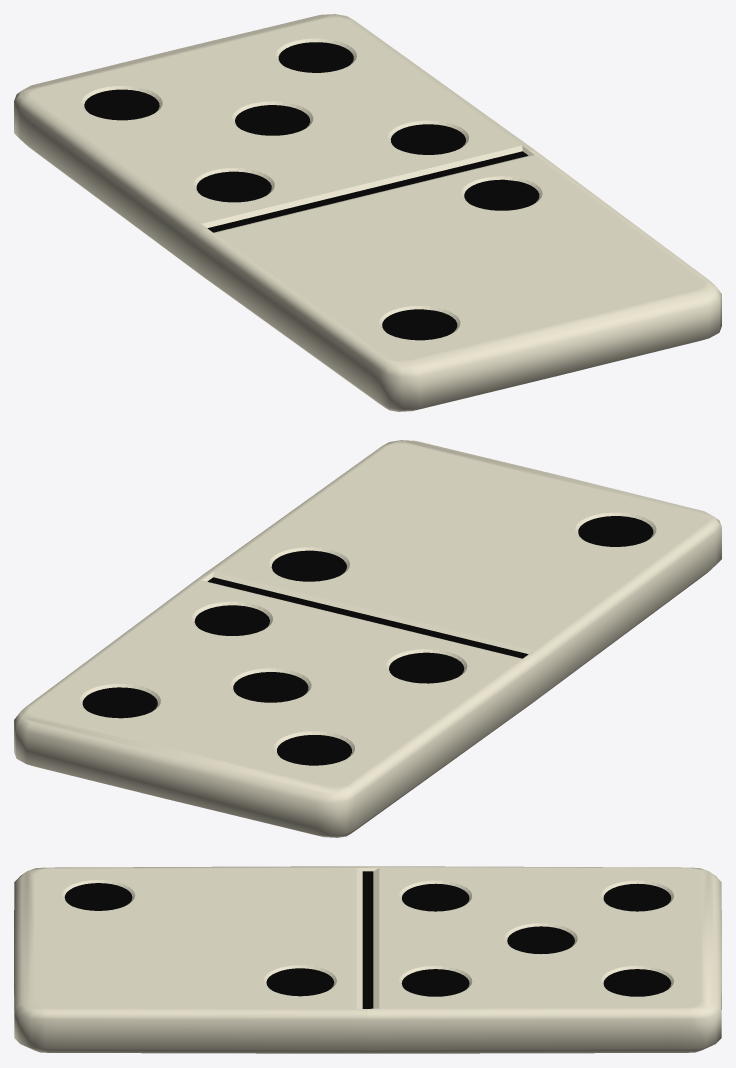
The model's file is Domino_2_5.glb.
The picture shows the model from 3 angles, top to bottom: view 1: azimuth 30°, elevation 25°; view 2: azimuth 150°, elevation 25°; view 3: azimuth 270°, elevation 25°; orthographic projection. The views are drawn at different scales.
Parts seen in each view (by area): view 1: Domino_2_5_A.001, Domino_2_5_B.001; view 2: Domino_2_5_B.001, Domino_2_5_A.001; view 3: Domino_2_5_A.001, Domino_2_5_B.001.
Boxes of the visible parts, bbox=[...] form: Domino_2_5_A.001: bbox=[197, 149, 721, 411]; Domino_2_5_B.001: bbox=[14, 14, 533, 276]; Domino_2_5_B.001: bbox=[14, 575, 538, 837]; Domino_2_5_A.001: bbox=[202, 440, 721, 702]; Domino_2_5_A.001: bbox=[14, 866, 367, 1053]; Domino_2_5_B.001: bbox=[368, 866, 721, 1053].
Size of the model in its own units: 0.7725 by 0.1053 by 1.54.
